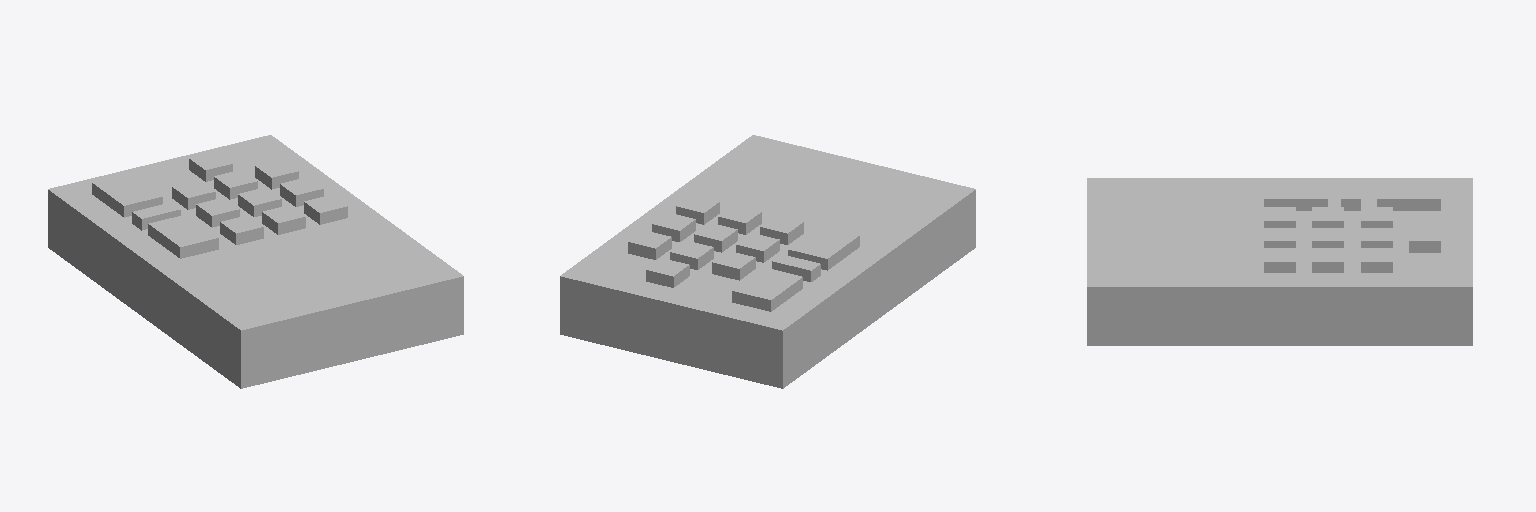
The model's file is maquina_de_cartao.obj.
3 renders of one model, left to right at view 1: azimuth 30°, elevation 25°; view 2: azimuth 150°, elevation 25°; view 3: azimuth 270°, elevation 25°, orthographic.
Parts seen in each view (by area): view 1: cube; view 2: cube; view 3: cube.
Boxes of the visible parts, <box> form: cube: <box>48,135,463,388</box>; cube: <box>560,135,975,388</box>; cube: <box>1087,178,1472,345</box>.
Size of the model in its own units: 0.25 by 0.075 by 0.375.